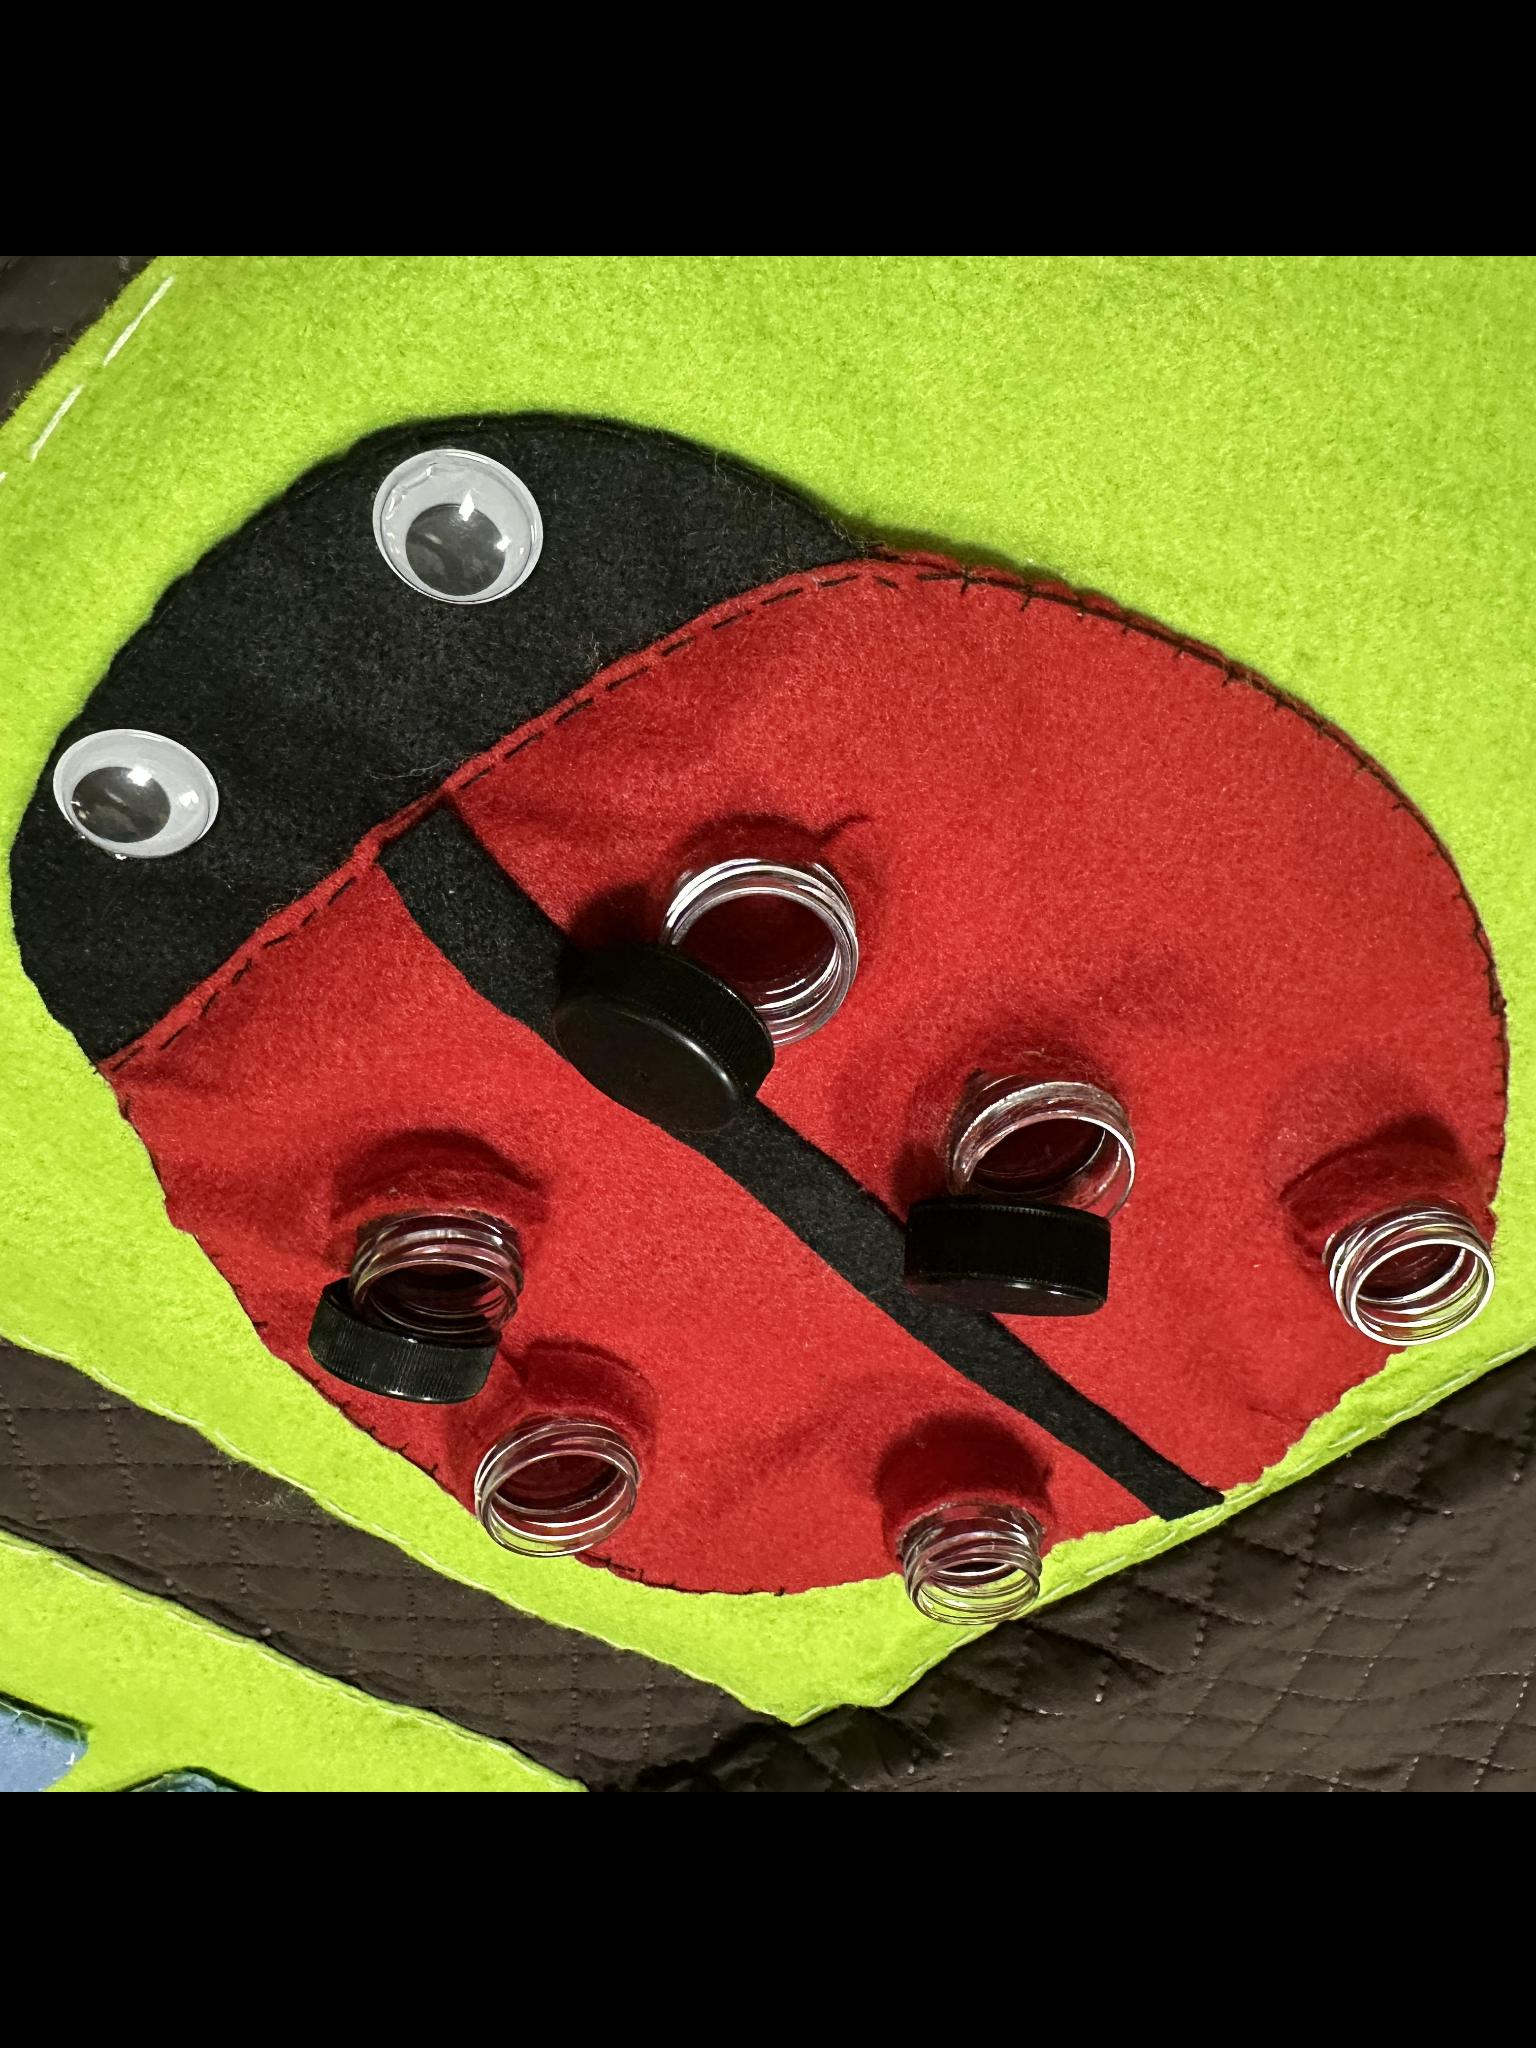cap_ng: (536, 790, 897, 1156), (881, 1034, 1181, 1340), (284, 1145, 573, 1426)
